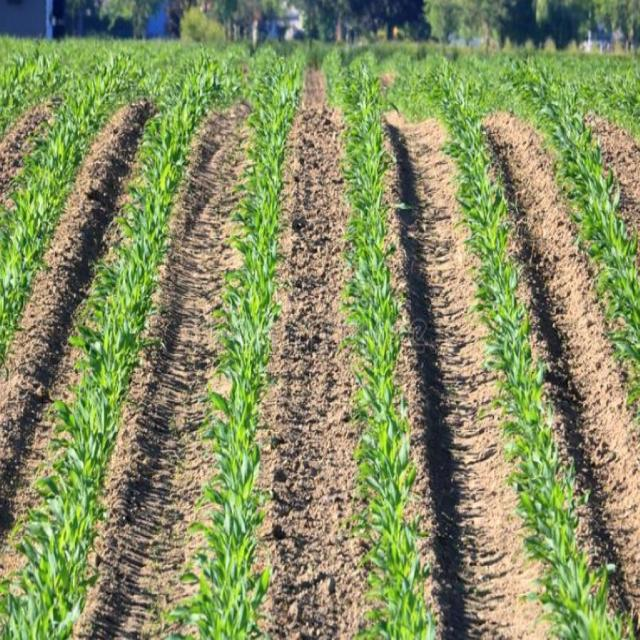row: (72, 94, 259, 640), (390, 110, 564, 640), (0, 94, 179, 590), (490, 108, 640, 636), (259, 106, 379, 640), (0, 76, 84, 249), (584, 101, 640, 266), (299, 60, 331, 103)
